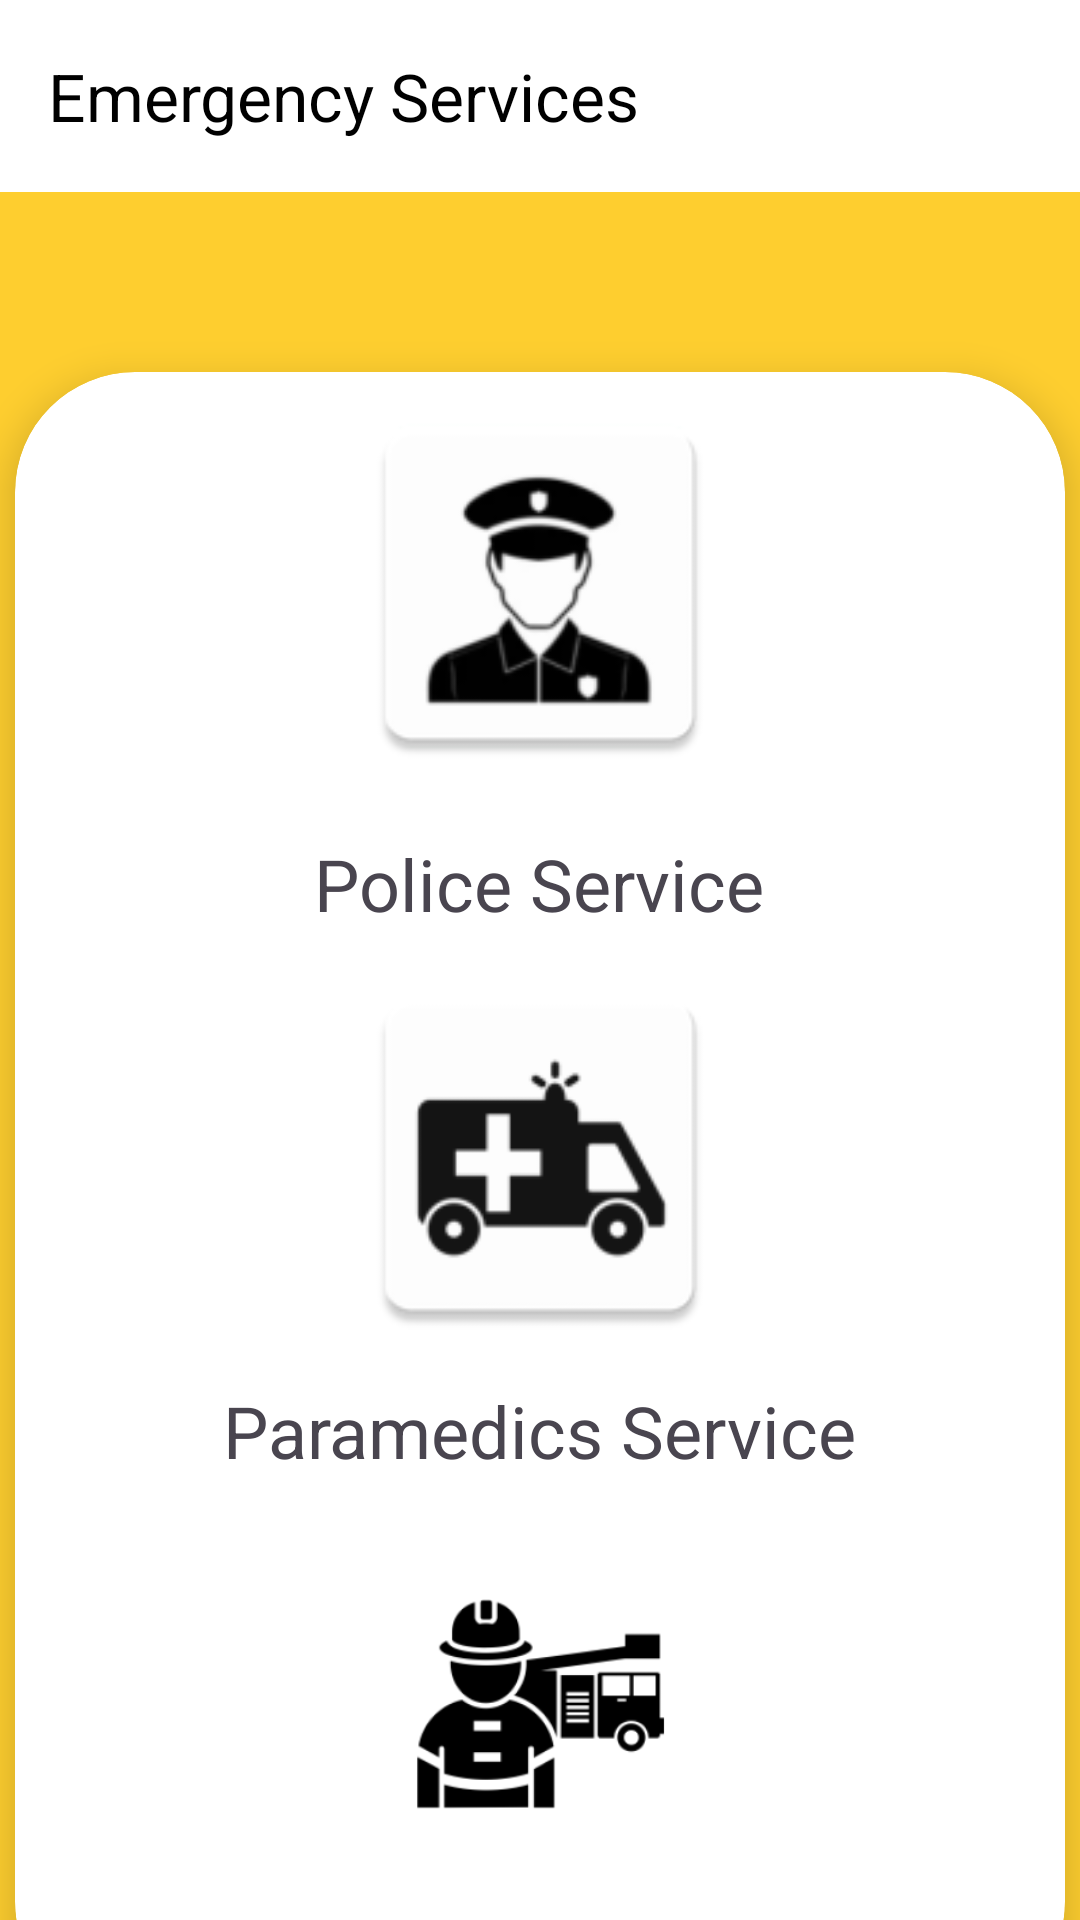

Icons on this 1080*1920 Android screen, each with the point to tap as [x,y]:
Ambulance: [541,1170]
